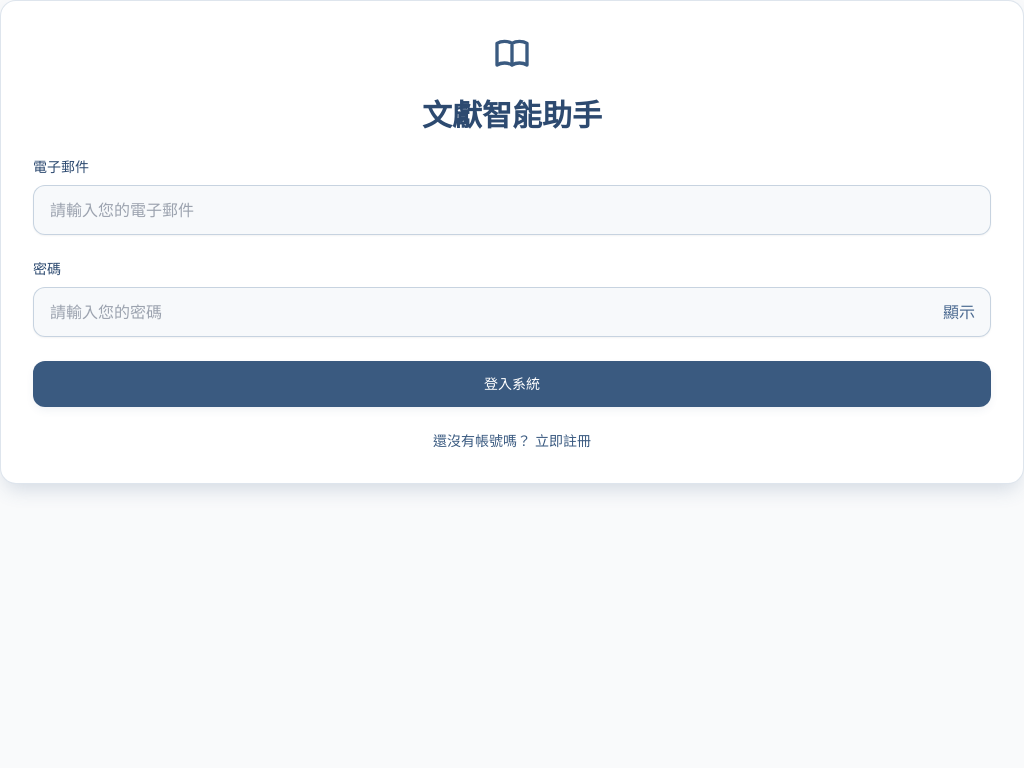
Test: LoginForm測試 › 應該在提交前驗證表單
獲取登入按鈕並點擊
Click the button with test id "login-submit" at [512, 384], box x1=33 y1=361 x2=991 y2=407
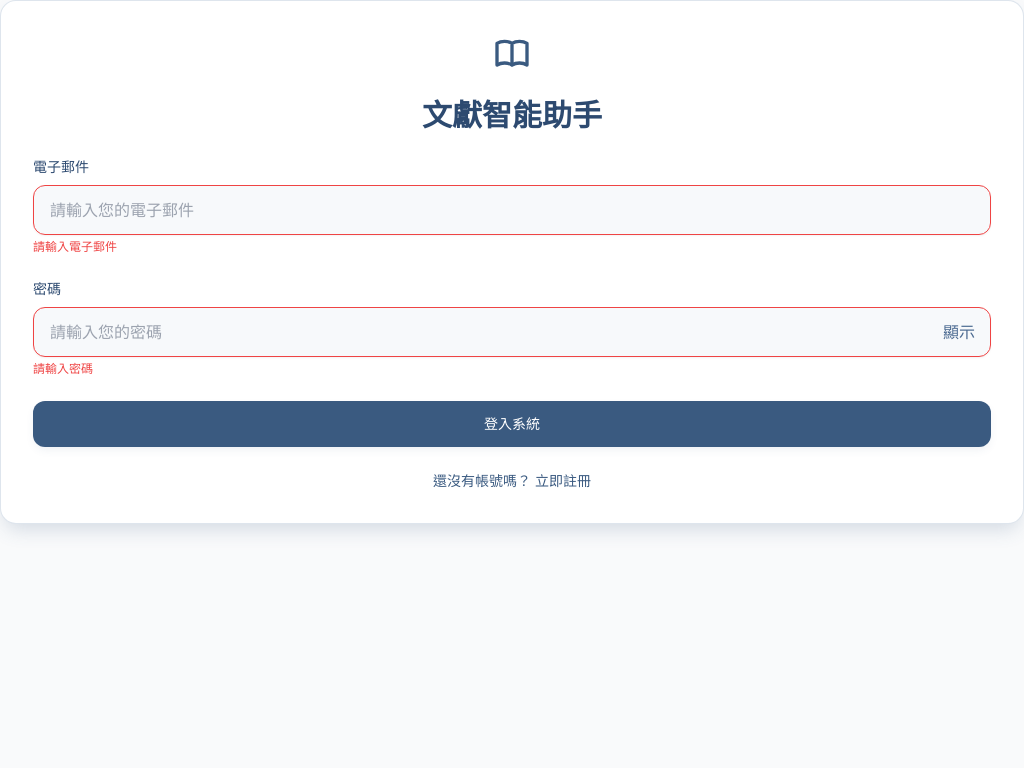
Expected: the text "請輸入電子郵件" is shown, x1=33 y1=239 x2=117 y2=254
Expected: the text "請輸入密碼" is shown, x1=33 y1=361 x2=93 y2=376
